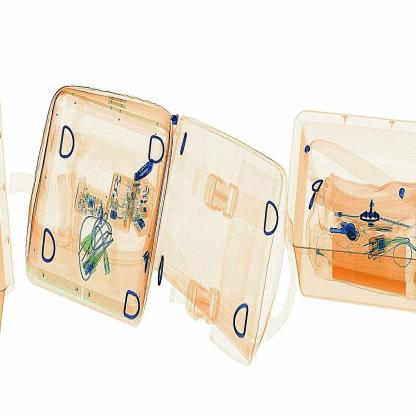knife: (130, 154, 158, 183)
